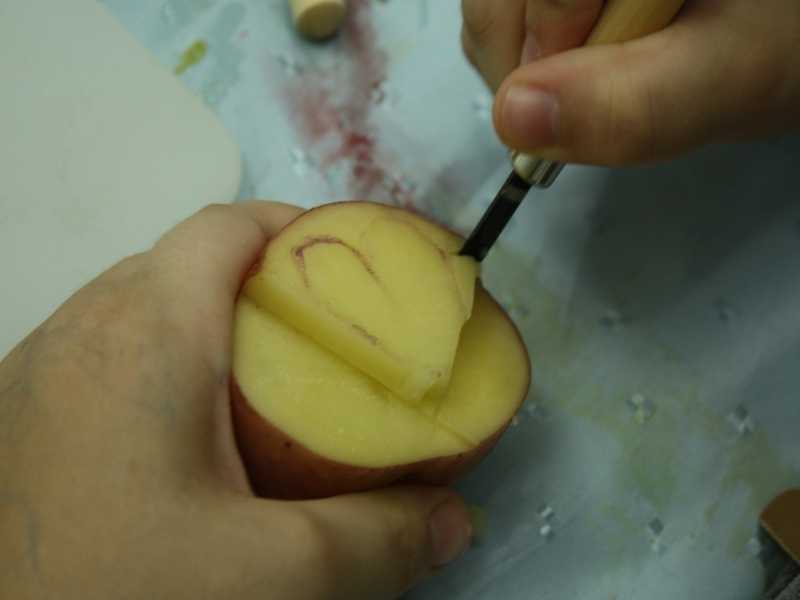knife: (464, 2, 677, 284)
